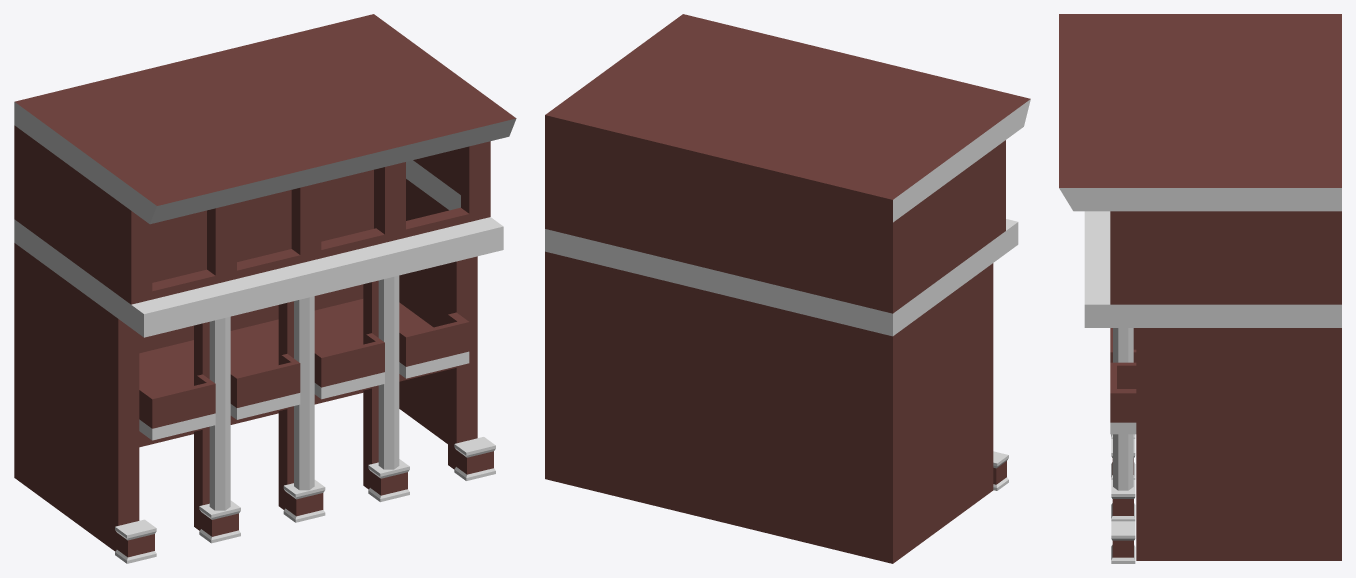
File: House_5_TEX.fbx
3 views of the same model, side by side, from view 1: azimuth 30°, elevation 25°; view 2: azimuth 150°, elevation 25°; view 3: azimuth 270°, elevation 25° (orthographic). The views are drawn at different scales.
Visible parts, largest first — view 1: Cube; view 2: Cube; view 3: Cube.
Part boxes in pixels (x1=…): Cube: x1=14, y1=14, x2=516, y2=563; Cube: x1=545, y1=14, x2=1030, y2=563; Cube: x1=1059, y1=14, x2=1341, y2=563.
Size of the model in its own units: 1642 by 1601 by 1100.
